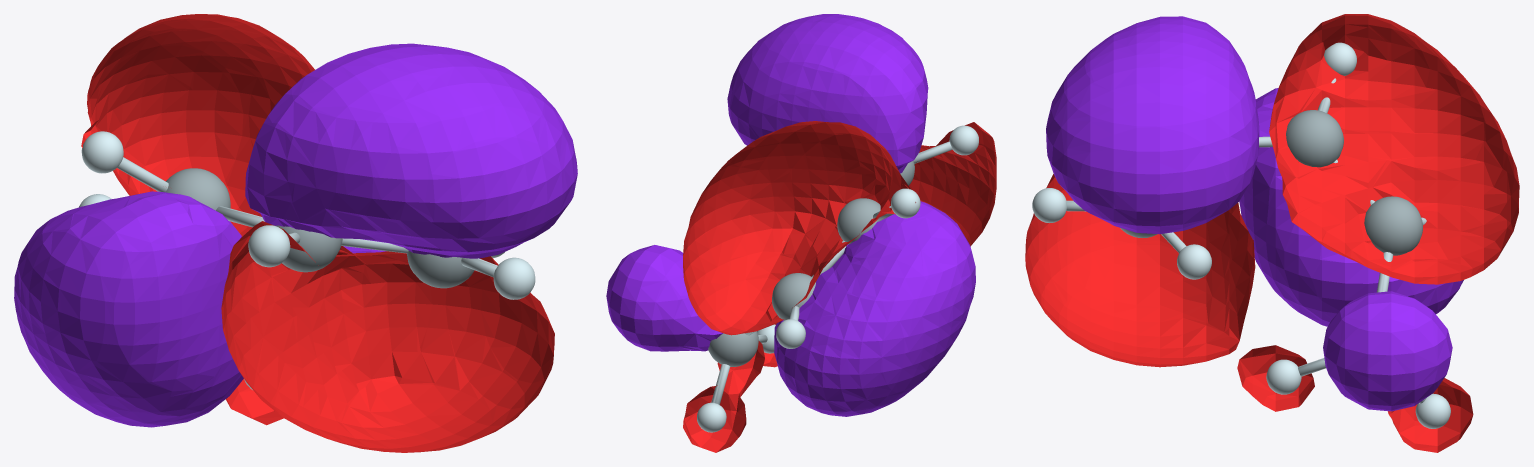
3 views of the same model, side by side, from view 1: azimuth 30°, elevation 25°; view 2: azimuth 150°, elevation 25°; view 3: azimuth 270°, elevation 25° (orthographic). The views are drawn at different scales.
Parts seen in each view (by area): view 1: Renderer Node; view 2: Renderer Node; view 3: Renderer Node.
Boxes of the visible parts, x1,y1,x2,y2 form: Renderer Node: (14, 14, 577, 452); Renderer Node: (606, 14, 996, 452); Renderer Node: (1025, 14, 1519, 452).
Bounding box in the file's own units: 4.98 × 5.08 × 5.6.
